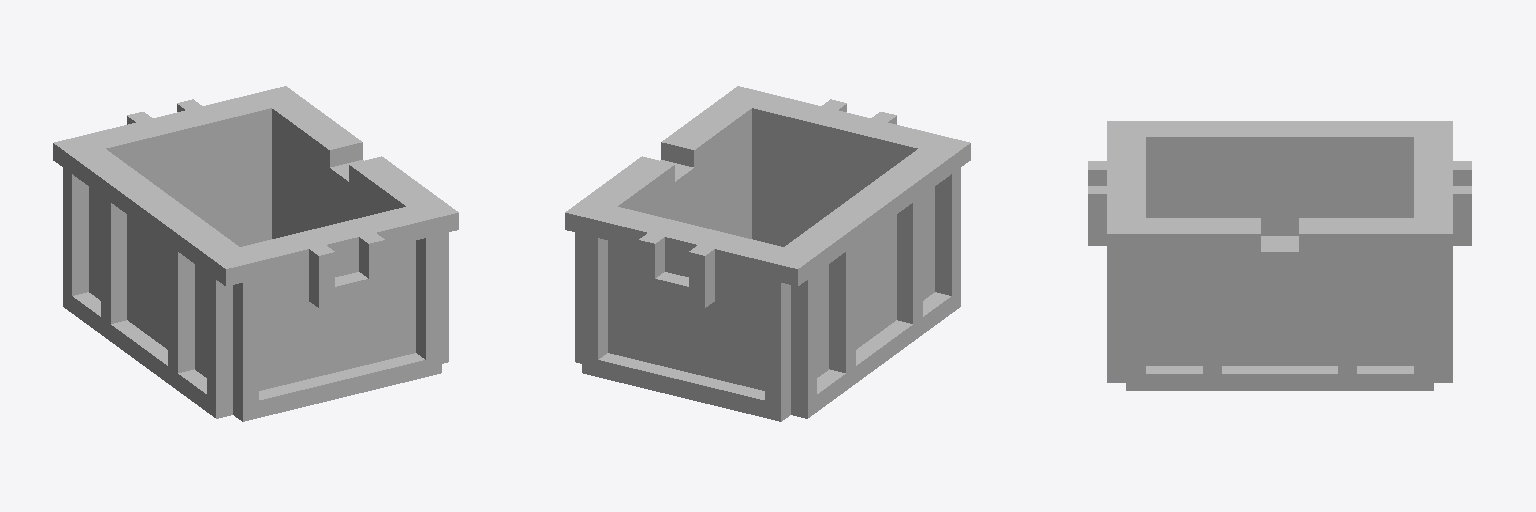
File: Matrix_5.obj
The picture shows the model from 3 angles: view 1: azimuth 30°, elevation 25°; view 2: azimuth 150°, elevation 25°; view 3: azimuth 270°, elevation 25°; orthographic projection.
Parts seen in each view (by area): view 1: Matrix_5; view 2: Matrix_5; view 3: Matrix_5.
Boxes of the visible parts, <box> form: Matrix_5: <box>53,86,458,421</box>; Matrix_5: <box>565,86,970,421</box>; Matrix_5: <box>1088,121,1471,390</box>.
Size of the model in its own units: 14 by 9 by 20.